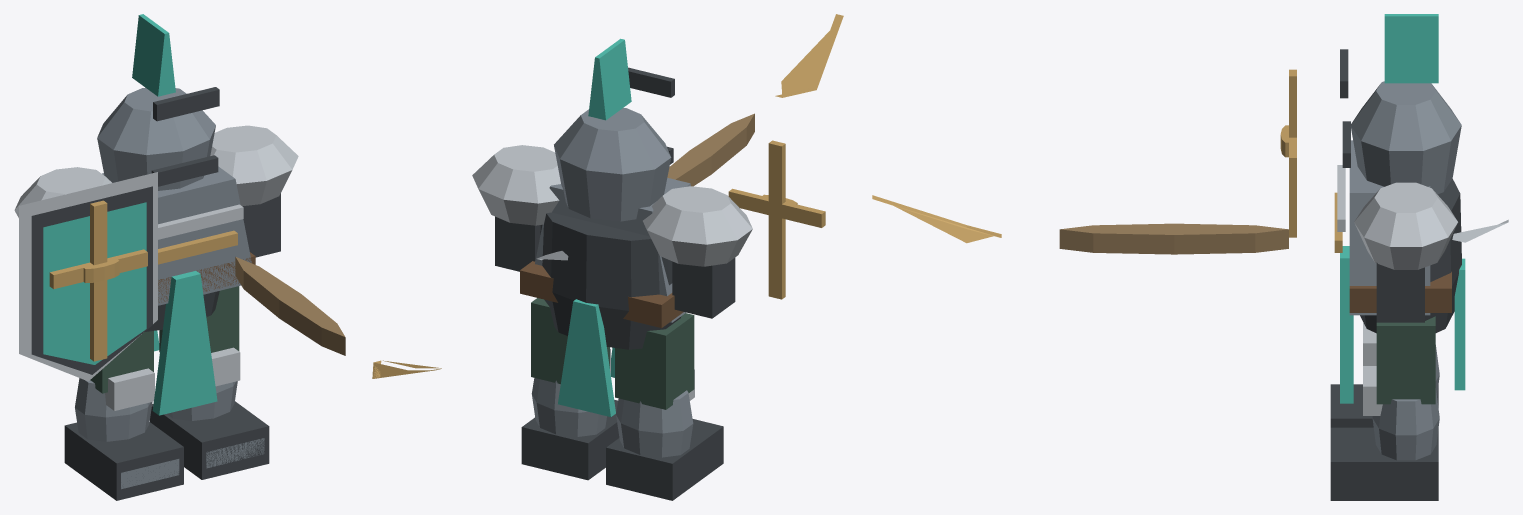
The model's file is unit-spear-guard.glb.
3 views of the same model, side by side, from view 1: azimuth 30°, elevation 25°; view 2: azimuth 150°, elevation 25°; view 3: azimuth 270°, elevation 25° (orthographic). The views are drawn at different scales.
Parts seen in each view (by area): view 1: Body, LegL, LegR, Weapon; view 2: Body, LegL, LegR, Weapon; view 3: Body, LegR, Weapon, LegL.
Boxes of the visible parts, <box> form: Body: <box>14,14,298,415</box>; LegL: <box>64,331,183,500</box>; LegR: <box>150,286,269,479</box>; Weapon: <box>235,257,441,378</box>; Body: <box>472,38,825,416</box>; LegL: <box>606,313,723,500</box>; LegR: <box>521,298,619,480</box>; Weapon: <box>536,14,843,260</box>; Body: <box>1280,14,1465,403</box>; LegR: <box>1330,316,1439,500</box>; Weapon: <box>872,195,1508,254</box>; LegL: <box>1330,323,1439,427</box>.
Bounding box in the file's own units: 1.41 × 1.83 × 2.36.
